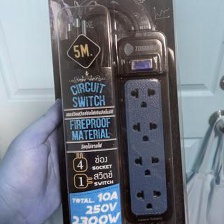book: (43, 0, 190, 224)
three_eye_plug: (111, 29, 177, 224)
